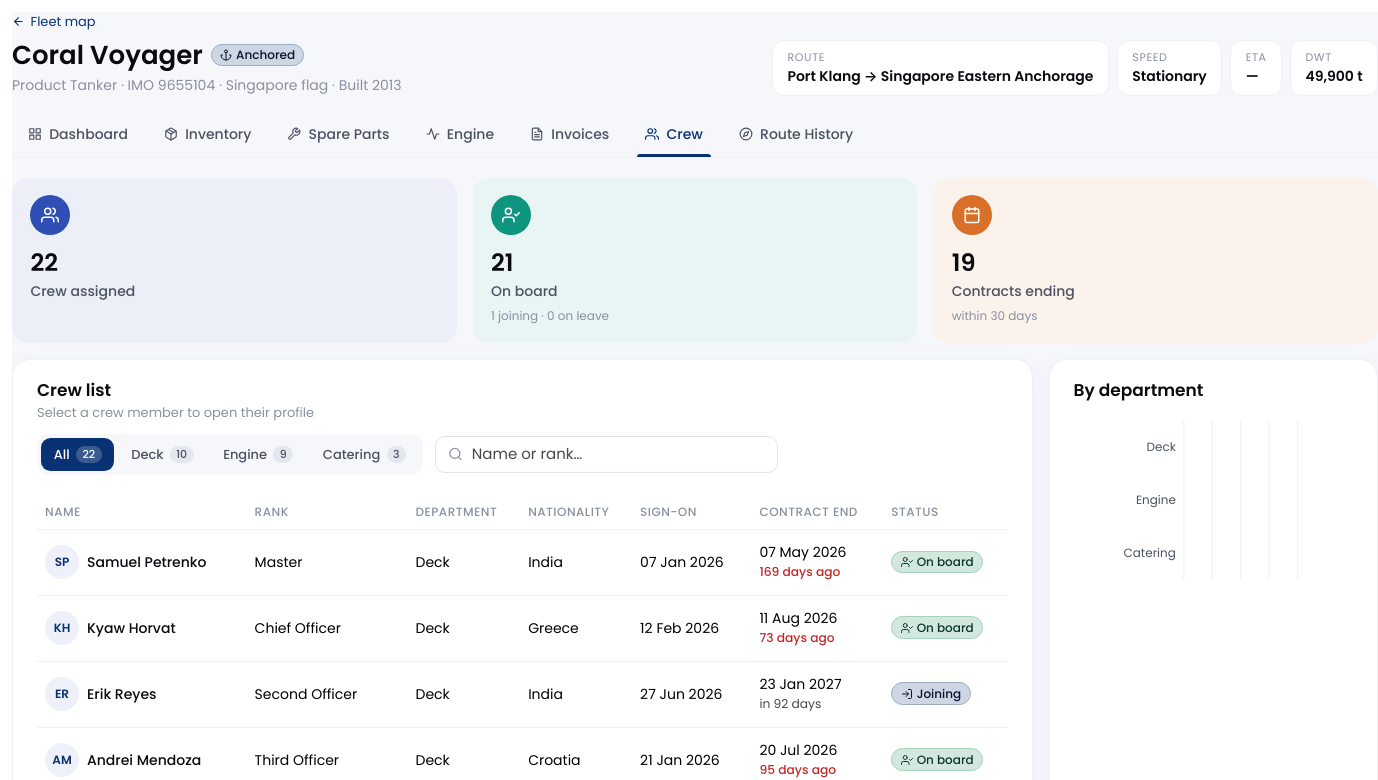
Test: crew list › filters by department
Click the radio button labelled "Catering 3". click: coordinates (364, 454)
box: [310,438,419,471]
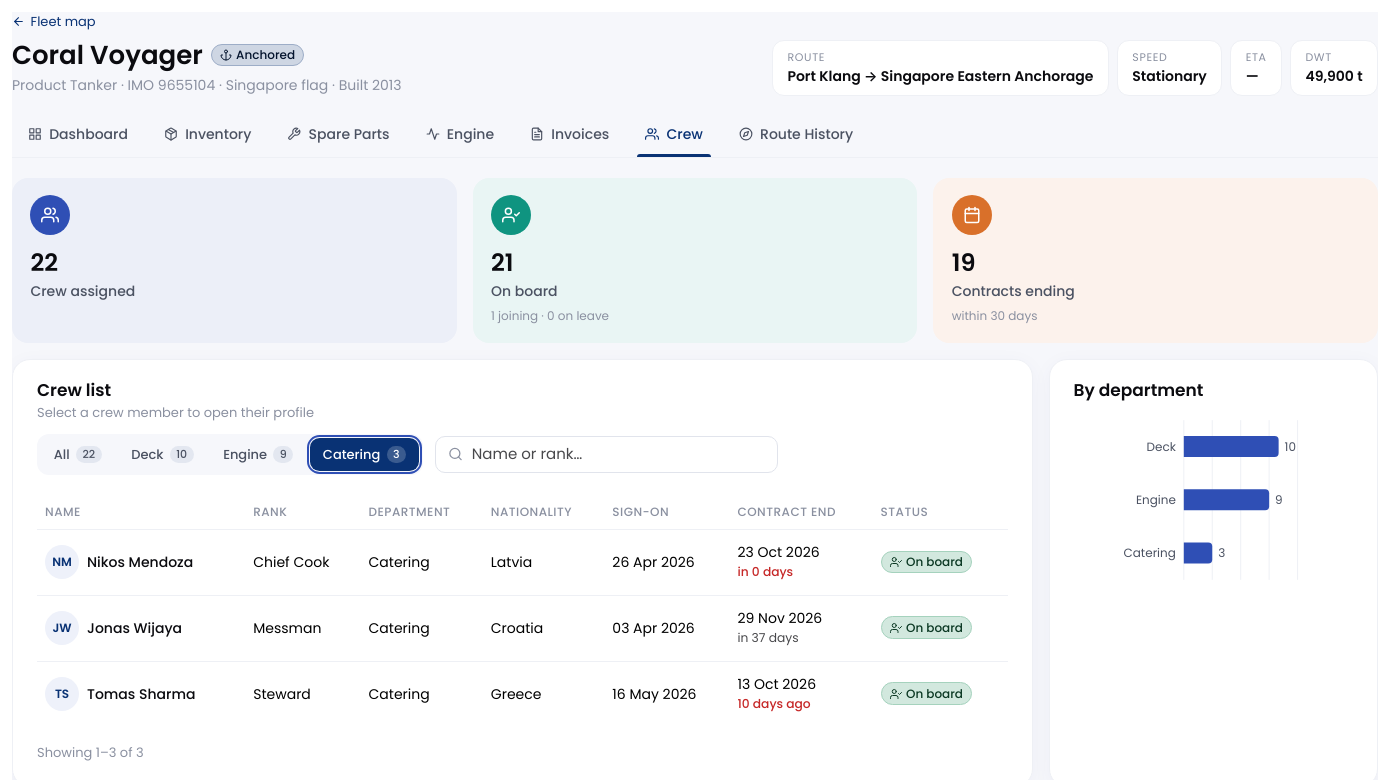
expect the row that starts with "Nikos Mendoza" shows "Catering": met, box [368,552,430,572]
expect the row that starts with "Jonas Wijaya" shows "Catering": met, box [368,618,430,638]
expect the row that starts with "Tomas Sharma" shows "Catering": met, box [368,684,430,704]
